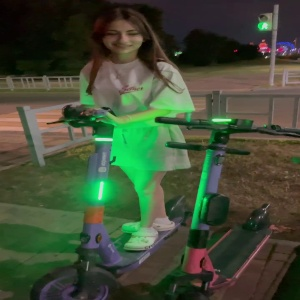human on a scooter: (28, 7, 196, 300)
